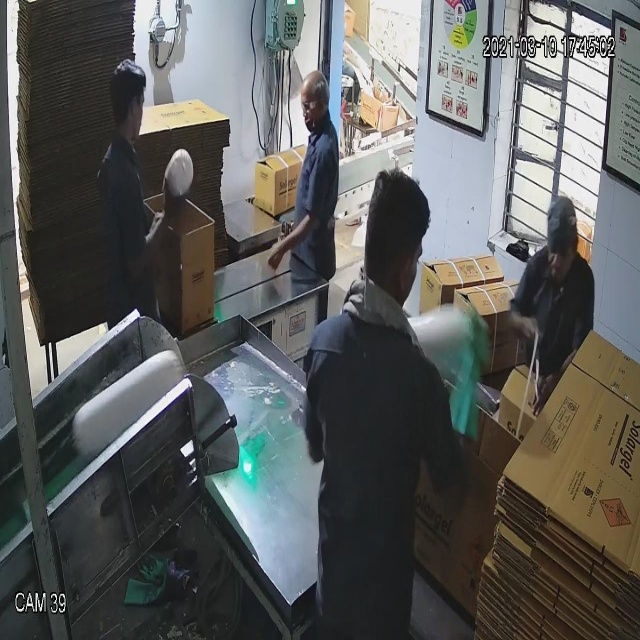Guantes: (435, 300, 495, 448)
Sin_guantes: (124, 181, 183, 296), (262, 211, 317, 285)
